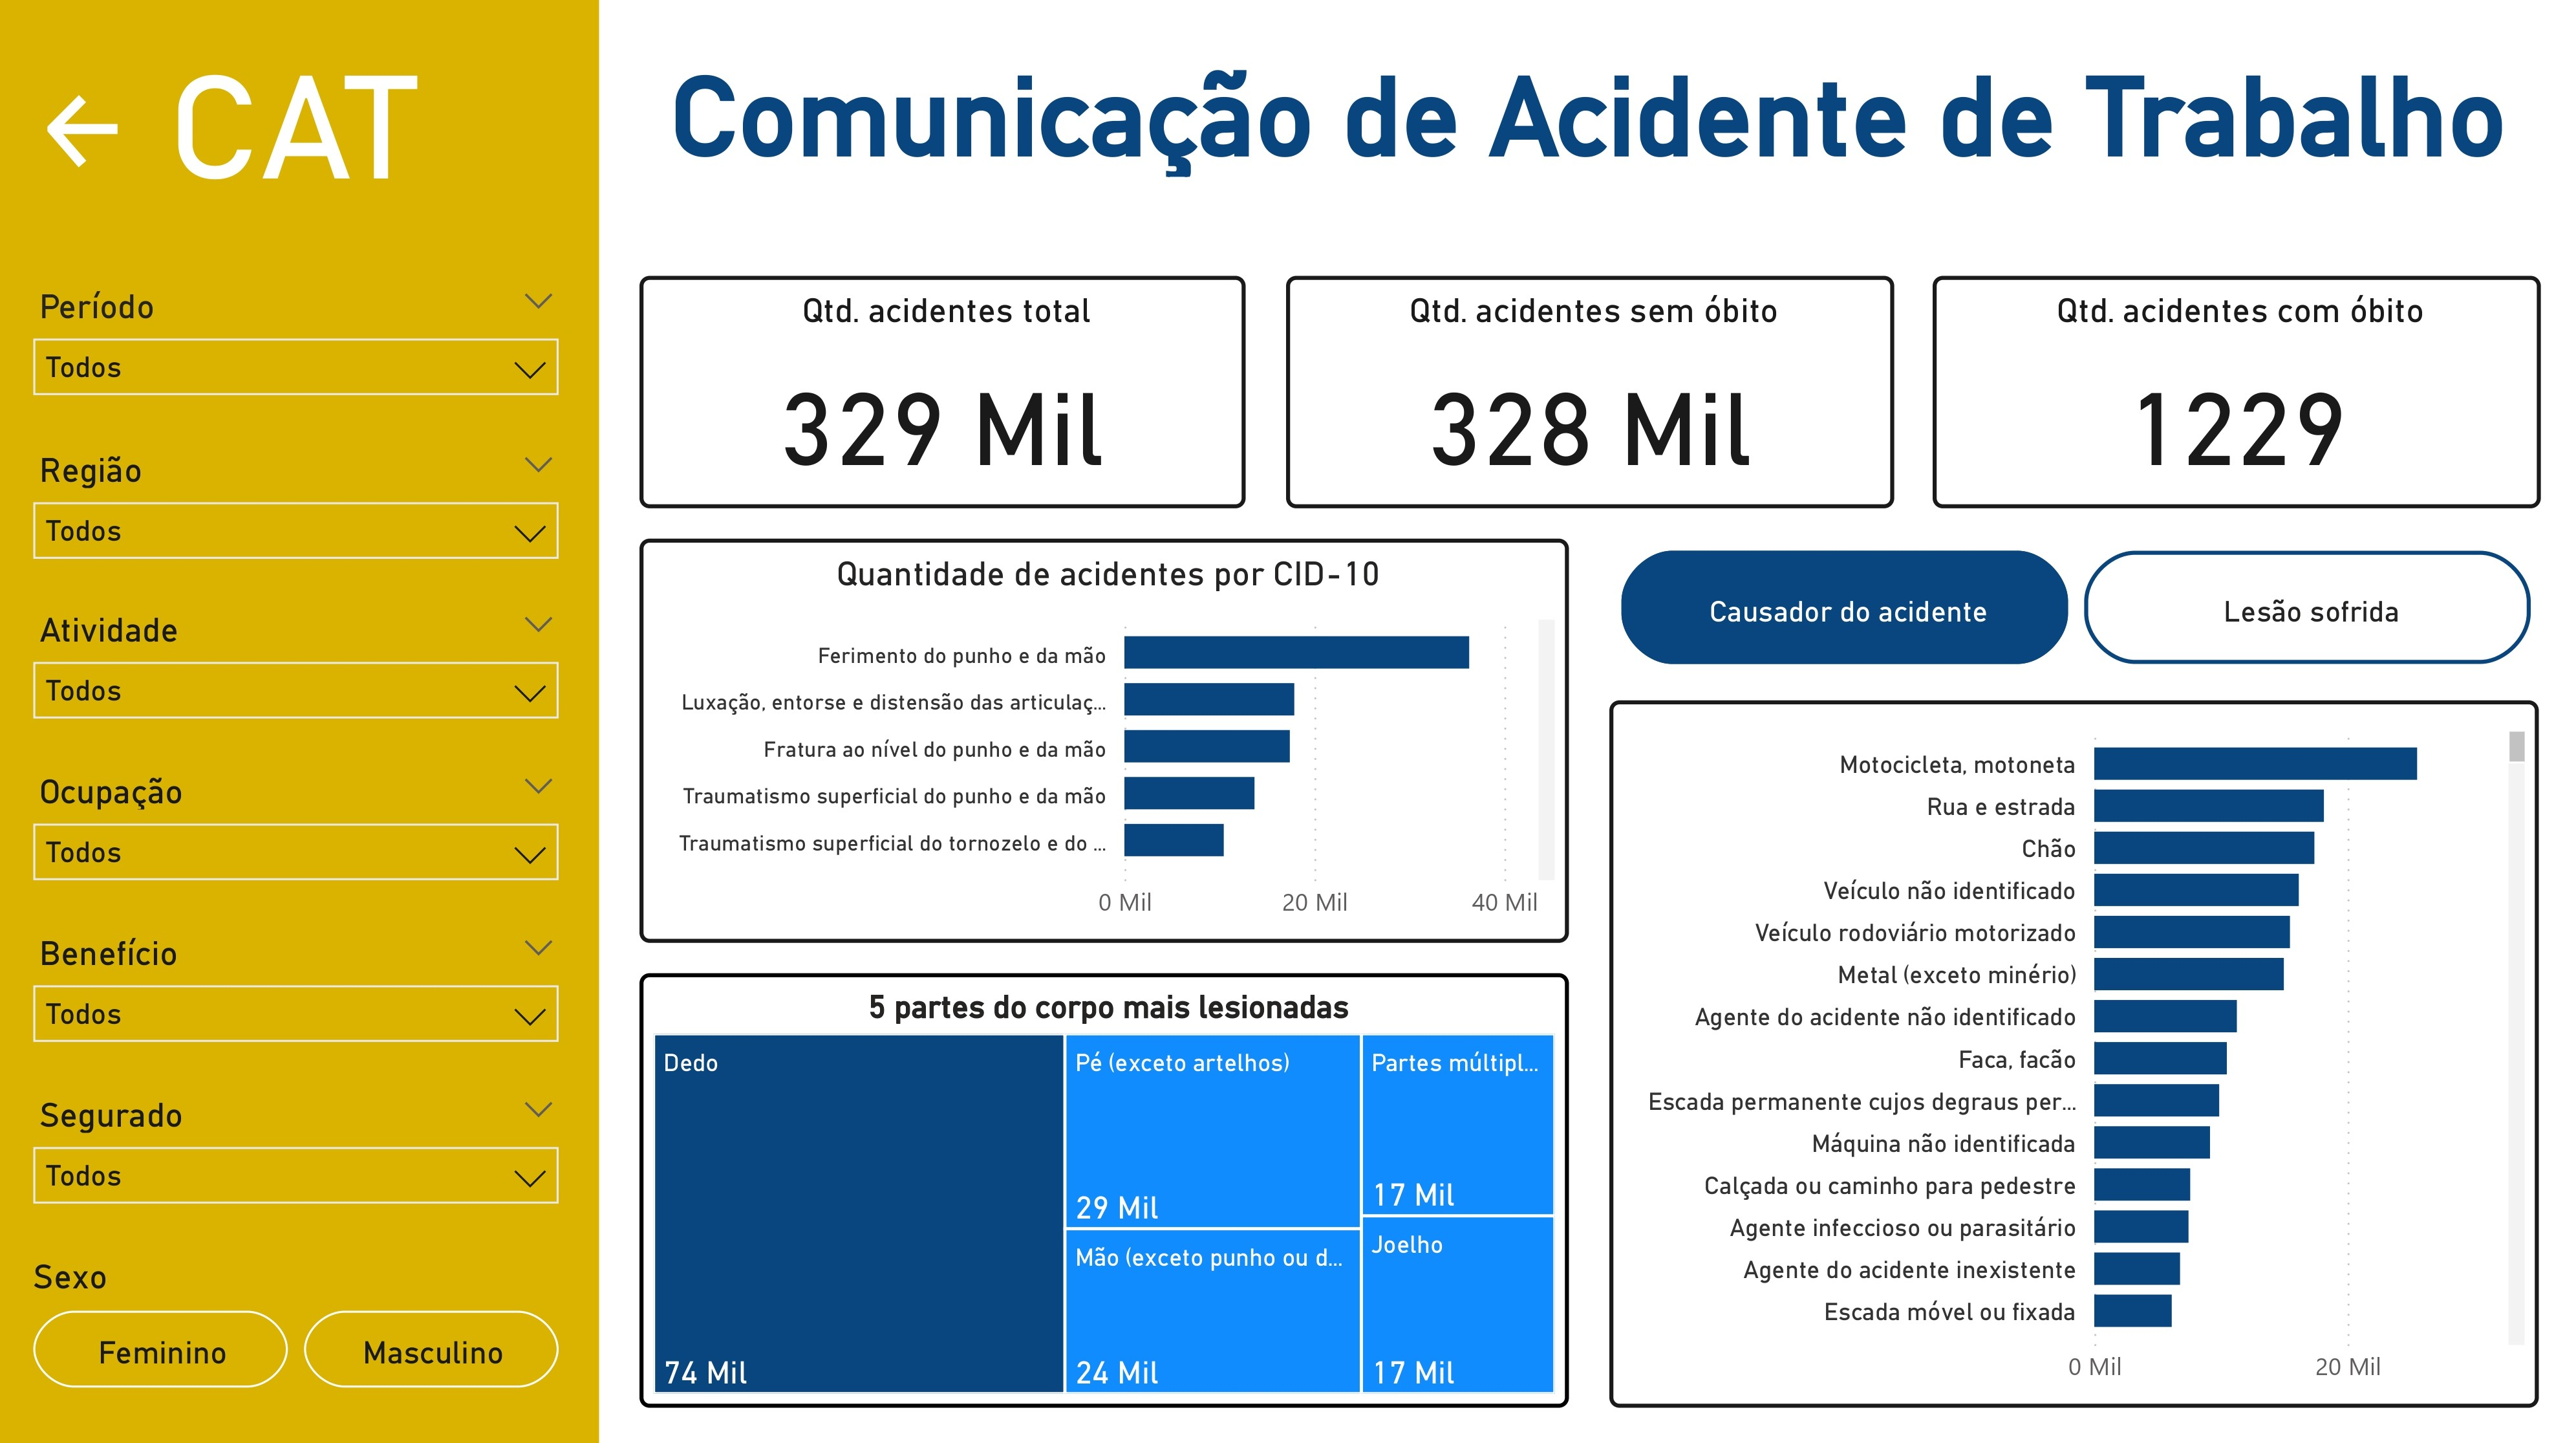

What the dashboard file says about the page in this screenshot:
{"tool":"powerbi","page":{"name":"Causas e consequências","canvas":[1280,720],"ordinal":2},"visuals":[{"type":"shape","box":[0,0,299.5,720],"z":0},{"type":"shape","box":[300,0,980,120],"z":1000},{"type":"card","title":"Qtd. acidentes total","fields":{"Values":["Medidas.qtd_acidentes"]},"box":[320,140,300,115],"z":2000},{"type":"card","title":"Qtd. acidentes sem óbito","fields":{"Values":["Medidas.qtd_sem_obito"]},"box":[640,140,301,115],"z":3000},{"type":"card","title":"Qtd. acidentes com óbito","fields":{"Values":["Medidas.qtd_com_obito"]},"box":[960,140,301,115],"z":4000},{"type":"clusteredBarChart","title":"Quantidade de acidentes por CID-10","fields":{"Y":["Medidas.qtd_acidentes"],"Category":["dim_cid.nm_cid"]},"box":[320,270,460,200],"z":5000},{"type":"clusteredBarChart","fields":{"Category":["catweb_v2.causa_acidente"],"Y":["Medidas.qtd_acidentes"]},"box":[800,350,460,350],"z":6000},{"type":"advancedSlicerVisual","fields":{"Values":["parametro_medico.parametro_medico"]},"box":[800.6,270.7,460.8,66.2],"z":7000},{"type":"treemap","title":"5 partes do corpo mais lesionadas","fields":{"Values":["Medidas.qtd_acidentes"],"Group":["catweb_v2.local_lesao"]},"box":[320,485,460,215],"z":8000},{"type":"slicer","fields":{"Values":["catweb_v2.dt_acidente.Variation.Hierarquia de datas.Mês"]},"box":[10,140,280,70],"z":9000},{"type":"slicer","fields":{"Values":["dim_mun.nm_uf","dim_mun.nm_mun"]},"box":[10,220.8,280,70],"z":10000},{"type":"slicer","fields":{"Values":["dim_cnae.nm_classe"]},"box":[10,300,280,70],"z":11000},{"type":"slicer","fields":{"Values":["dim_cbo.nm_cbo"]},"box":[10,380,280,70],"z":12000},{"type":"advancedSlicerVisual","title":"Sexo","fields":{"Values":["catweb_v2.nm_sexo"]},"box":[15,620,270,75],"z":13000},{"type":"slicer","fields":{"Values":["catweb_v2.tipo_beneficio"]},"box":[10.1,460,280,70],"z":14000},{"type":"slicer","fields":{"Values":["catweb_v2.tipo_segurado"]},"box":[10,540,280,70],"z":15000},{"type":"actionButton","box":[20,46,50,45],"z":16000}]}

Visuals, with their boxes in screenshot pixels (x1, y1, x2, y2), scaled from the page's 1280x720 canvas onto the 2576x1443 screenshot:
shape: l=0, t=0, r=603, b=1442
shape: l=604, t=0, r=2575, b=241
"Qtd. acidentes total" card: l=644, t=281, r=1248, b=511
"Qtd. acidentes sem óbito" card: l=1288, t=281, r=1894, b=511
"Qtd. acidentes com óbito" card: l=1932, t=281, r=2538, b=511
"Quantidade de acidentes por CID-10" clusteredBarChart: l=644, t=541, r=1570, b=942
clusteredBarChart - catweb_v2.causa_acidente x Medidas.qtd_acidentes: l=1610, t=702, r=2536, b=1403
advancedSlicerVisual - parametro_medico.parametro_medico: l=1611, t=543, r=2538, b=675
"5 partes do corpo mais lesionadas" treemap: l=644, t=972, r=1570, b=1403
slicer - catweb_v2.dt_acidente.Variation.Hierarquia de datas.Mês: l=20, t=281, r=584, b=421
slicer - dim_mun.nm_uf x dim_mun.nm_mun: l=20, t=442, r=584, b=583
slicer - dim_cnae.nm_classe: l=20, t=602, r=584, b=741
slicer - dim_cbo.nm_cbo: l=20, t=761, r=584, b=902
"Sexo" advancedSlicerVisual: l=30, t=1242, r=574, b=1393
slicer - catweb_v2.tipo_beneficio: l=20, t=922, r=584, b=1062
slicer - catweb_v2.tipo_segurado: l=20, t=1082, r=584, b=1222
actionButton: l=40, t=92, r=141, b=182
